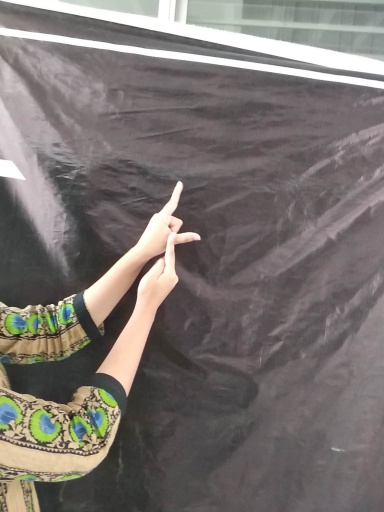dh: (118, 170, 205, 311)
